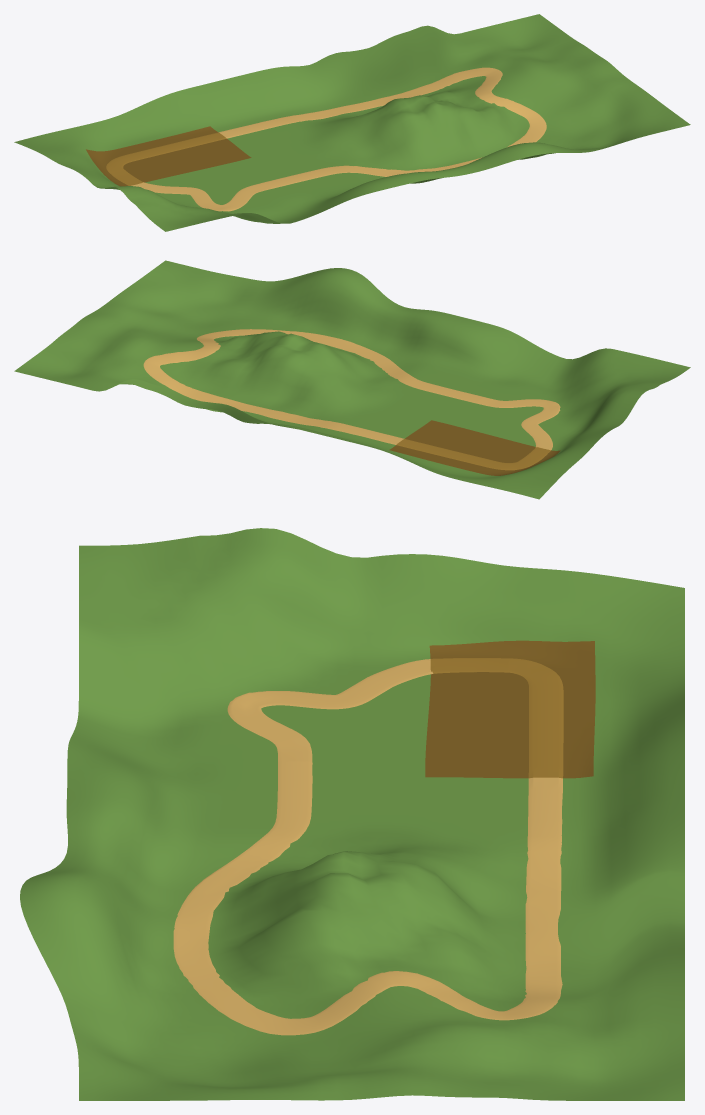
The model's file is Land_Easy_v2.fbx.
3 views of the same model, one above another, from view 1: azimuth 30°, elevation 25°; view 2: azimuth 150°, elevation 25°; view 3: azimuth 270°, elevation 25° (orthographic). The views are drawn at different scales.
Visible parts, largest first — view 1: pPlane13, pCube84; view 2: pPlane13, pCube84; view 3: pPlane13, pCube84.
Boxes of the visible parts, x1,y1,x2,y2 form: pPlane13: (14,14,690,231); pCube84: (106,67,546,211); pPlane13: (14,260,690,499); pCube84: (143,329,560,470); pPlane13: (20,528,684,1100); pCube84: (173,658,563,1035).
Bounding box in the file's own units: 357 × 30.26 × 196.
